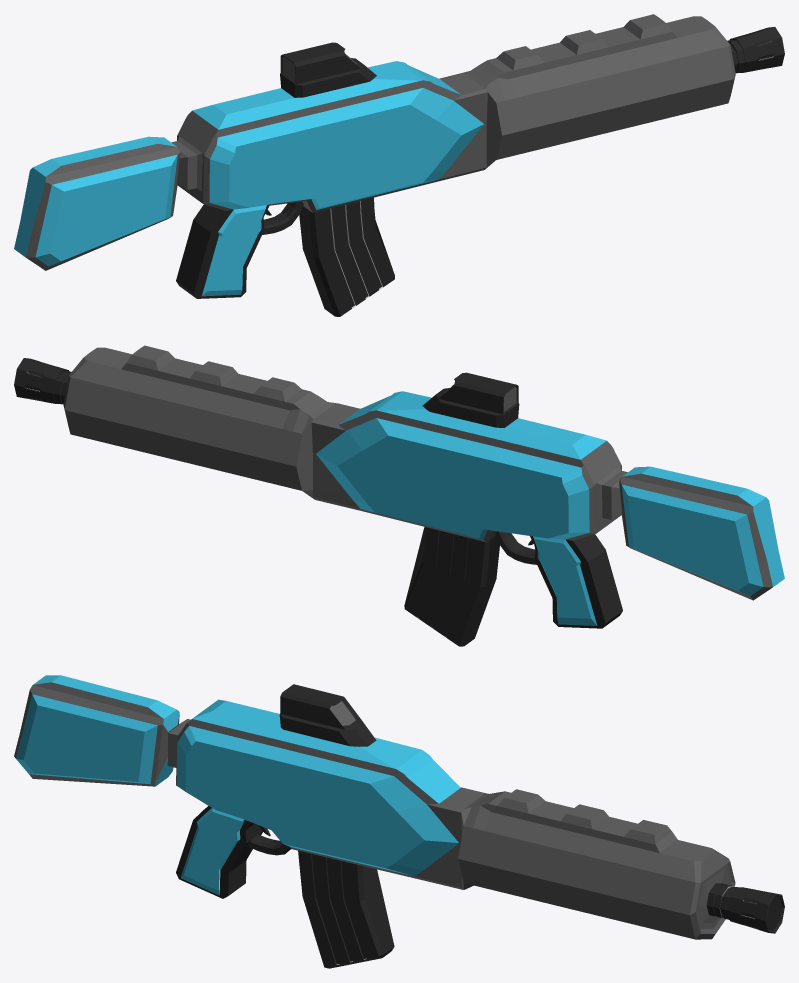
Rendered from rifle.fbx.
3 views of the same model, one above another, from view 1: azimuth 30°, elevation 25°; view 2: azimuth 150°, elevation 25°; view 3: azimuth 330°, elevation 25° (orthographic).
Parts seen in each view (by area): view 1: Assult_rifle; view 2: Assult_rifle; view 3: Assult_rifle.
Part boxes in pixels (x1,y1,x2,y2): Assult_rifle: [14, 14, 784, 316]; Assult_rifle: [14, 345, 784, 646]; Assult_rifle: [14, 675, 784, 968].
Size of the model in its own units: 0.9479 by 0.0971 by 0.3187.
